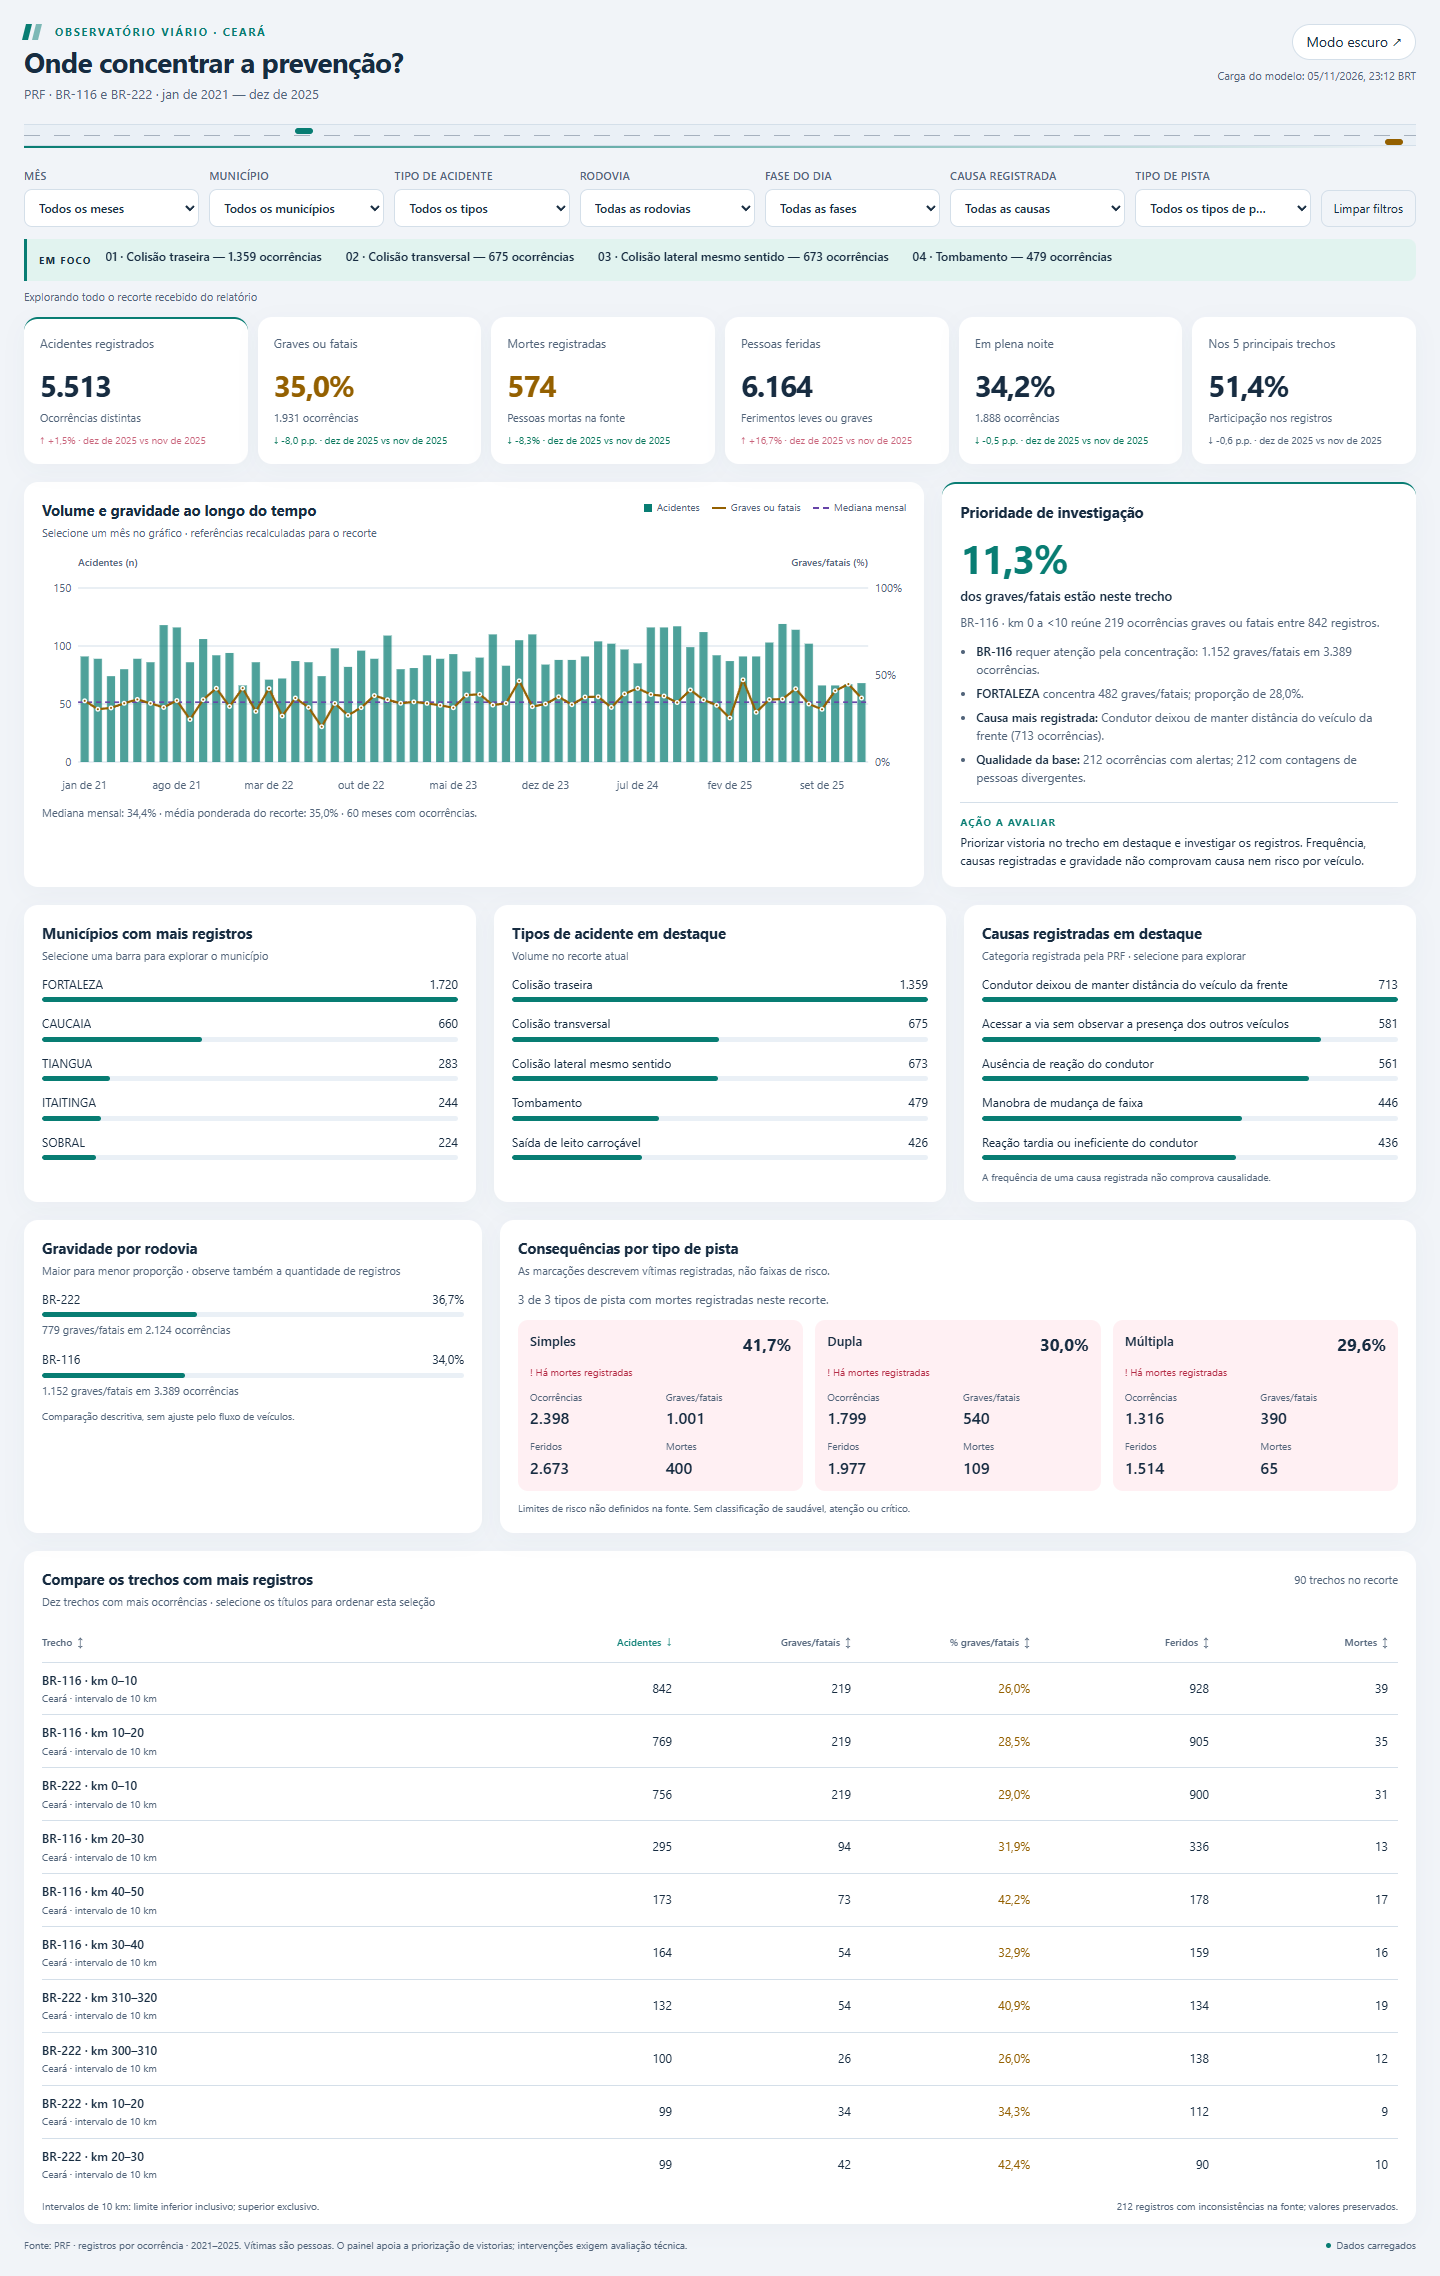

What the dashboard file says about the page in this screenshot:
{"tool":"powerbi","page":{"name":"Página 2","canvas":[1280,720],"ordinal":1},"visuals":[{"type":"htmlContent443BE3AD55E043BF878BED274D3A6855","fields":{"content":["fAcidentes.HTML Dashboard PRF"]},"box":[0,0,1279.8,720.2],"z":0}]}

Visuals, with their boxes on the page's 1280x720 design canvas (x1, y1, x2, y2). These are canvas units, not pixel positions in the 1440x2276 screenshot, which may show the page scaled, cropped or inside an application window:
htmlContent443BE3AD55E043BF878BED274D3A6855 - fAcidentes.HTML Dashboard PRF: select_region(0, 0, 1280, 720)
